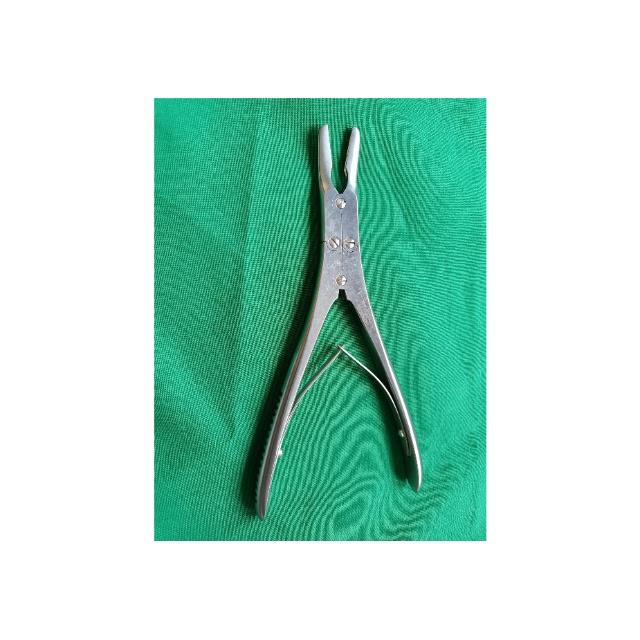gubia: (242, 126, 422, 519)
